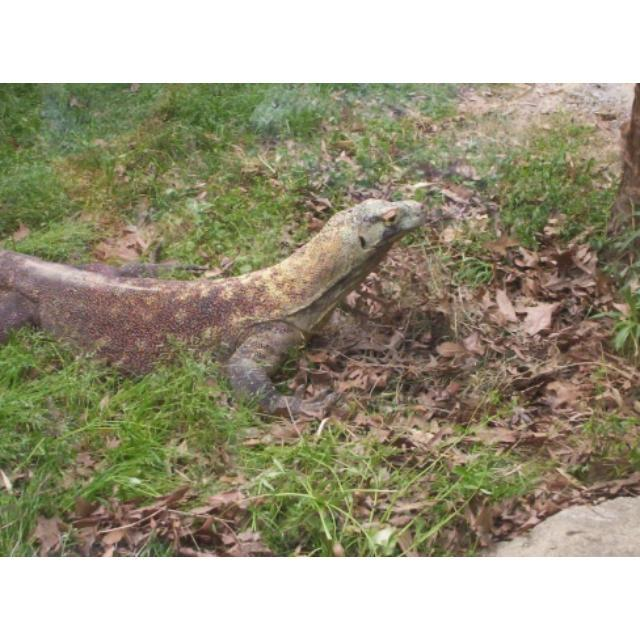KomodoDragon: (0, 197, 424, 422)
